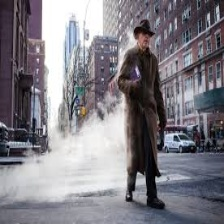smoke: (15, 120, 118, 198)
